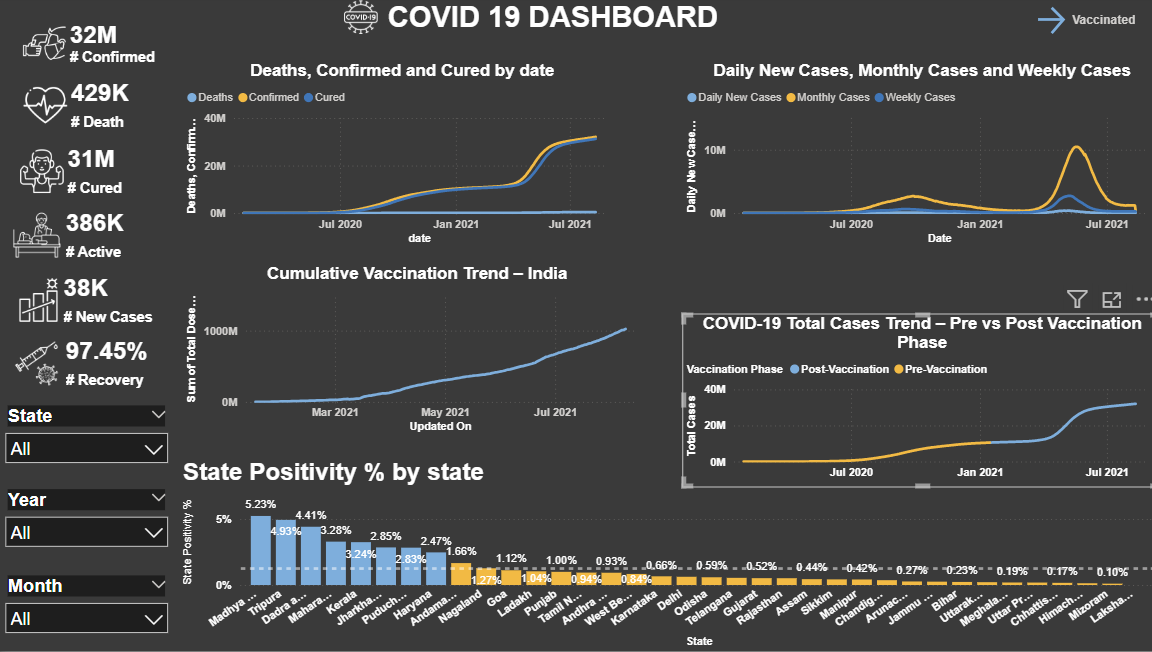

The dashboard page shown, as its layout file describes it:
{"tool":"powerbi","page":{"name":"COVID - 19 DASHBOARD","canvas":[1280,720],"ordinal":0},"visuals":[{"type":"textbox","box":[351.3,0,520.1,60.4],"z":0},{"type":"lineChart","fields":{"Category":["SummaryData.date"],"Y":["Sum(SummaryData.deaths)","Sum(SummaryData.confirmed)","Sum(SummaryData.cured)"]},"box":[204.5,71.4,483,205.8],"z":1000},{"type":"lineChart","title":"Daily New Cases, Monthly Cases and Weekly Cases","fields":{"Category":["DateTable.Date"],"Y":["Sum(SummaryData.daily_new_cases)","DateTable.Monthly_Cases","DateTable.weekly_cases"]},"box":[753.3,71.4,526.9,205.8],"z":2000},{"type":"lineChart","title":"Cumulative Vaccination Trend – India","fields":{"Category":["VaccineData.Updated On"],"Y":["Sum(VaccineData.Total Doses Administered)"]},"box":[204.5,293.7,516,190.7],"z":3000},{"type":"lineChart","title":"COVID-19 Total Cases Trend – Pre vs Post Vaccination Phase","fields":{"Category":["SummaryData.date"],"Series":["SummaryData.Vaccination Phase"],"Y":["SummaryData.Total Cases"]},"box":[753.3,348.5,526.9,190.7],"z":4000},{"type":"clusteredColumnChart","fields":{"Category":["SummaryData.state"],"Y":["SummaryData.State Positivity %"]},"box":[200.3,507.7,1079.9,212.7],"z":5000},{"type":"cardVisual","fields":{"Data":["SummaryData.Total Confirmed"]},"box":[0,0,199,91.9],"z":6000},{"type":"cardVisual","fields":{"Data":["SummaryData.Total Deaths"]},"box":[1.1,53.5,199,109.8],"z":7000},{"type":"cardVisual","fields":{"Data":["SummaryData.Total Recovered"]},"box":[9.3,152.3,199,81],"z":8000},{"type":"cardVisual","fields":{"Data":["SummaryData.Active Cases"]},"box":[0,218.2,197.6,89.2],"z":9000},{"type":"cardVisual","fields":{"Data":["SummaryData.Daily New Cases"]},"box":[5.5,293.7,197.6,81],"z":10000},{"type":"cardVisual","fields":{"Data":["SummaryData.Recovery Rate %"]},"box":[0,362.3,197.6,82.3],"z":11000},{"type":"slicer","fields":{"Values":["SummaryData.state"]},"box":[0,444.6,199,79.6],"z":12000},{"type":"slicer","fields":{"Values":["SummaryData.Year"]},"box":[0,536.5,199,78.2],"z":13000},{"type":"slicer","fields":{"Values":["SummaryData.Month"]},"box":[0,631.2,199,81],"z":14000},{"type":"actionButton","box":[1125.2,6.9,142.7,39.8],"z":15000},{"type":"image","box":[377.4,0,46.7,46.7],"z":15001}]}

Visuals, with their boxes in screenshot pixels (x1, y1, x2, y2), scaled from the page's 1280x720 canvas onto the 1152x652 screenshot:
textbox: 316,0,784,55
lineChart - SummaryData.date x Sum(SummaryData.deaths): 184,65,619,251
"Daily New Cases, Monthly Cases and Weekly Cases" lineChart: 678,65,1151,251
"Cumulative Vaccination Trend – India" lineChart: 184,266,648,439
"COVID-19 Total Cases Trend – Pre vs Post Vaccination Phase" lineChart: 678,316,1151,488
clusteredColumnChart - SummaryData.state x SummaryData.State Positivity %: 180,460,1151,651
cardVisual - SummaryData.Total Confirmed: 0,0,179,83
cardVisual - SummaryData.Total Deaths: 1,48,180,148
cardVisual - SummaryData.Total Recovered: 8,138,187,211
cardVisual - SummaryData.Active Cases: 0,198,178,278
cardVisual - SummaryData.Daily New Cases: 5,266,183,339
cardVisual - SummaryData.Recovery Rate %: 0,328,178,403
slicer - SummaryData.state: 0,403,179,475
slicer - SummaryData.Year: 0,486,179,557
slicer - SummaryData.Month: 0,572,179,645
actionButton: 1013,6,1141,42
image: 340,0,382,42
